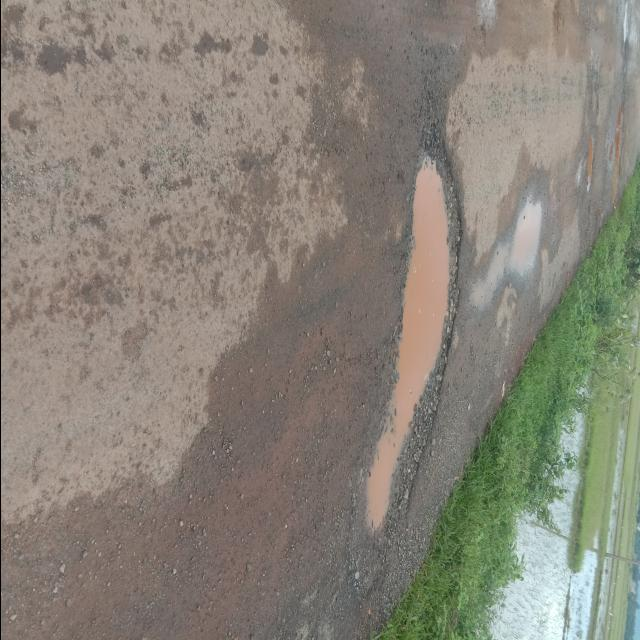potholes: (351, 135, 466, 548), (478, 160, 552, 300), (592, 0, 640, 90), (455, 0, 517, 68)
